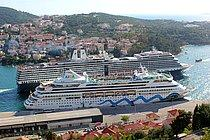Ship: (24, 70, 198, 115)
